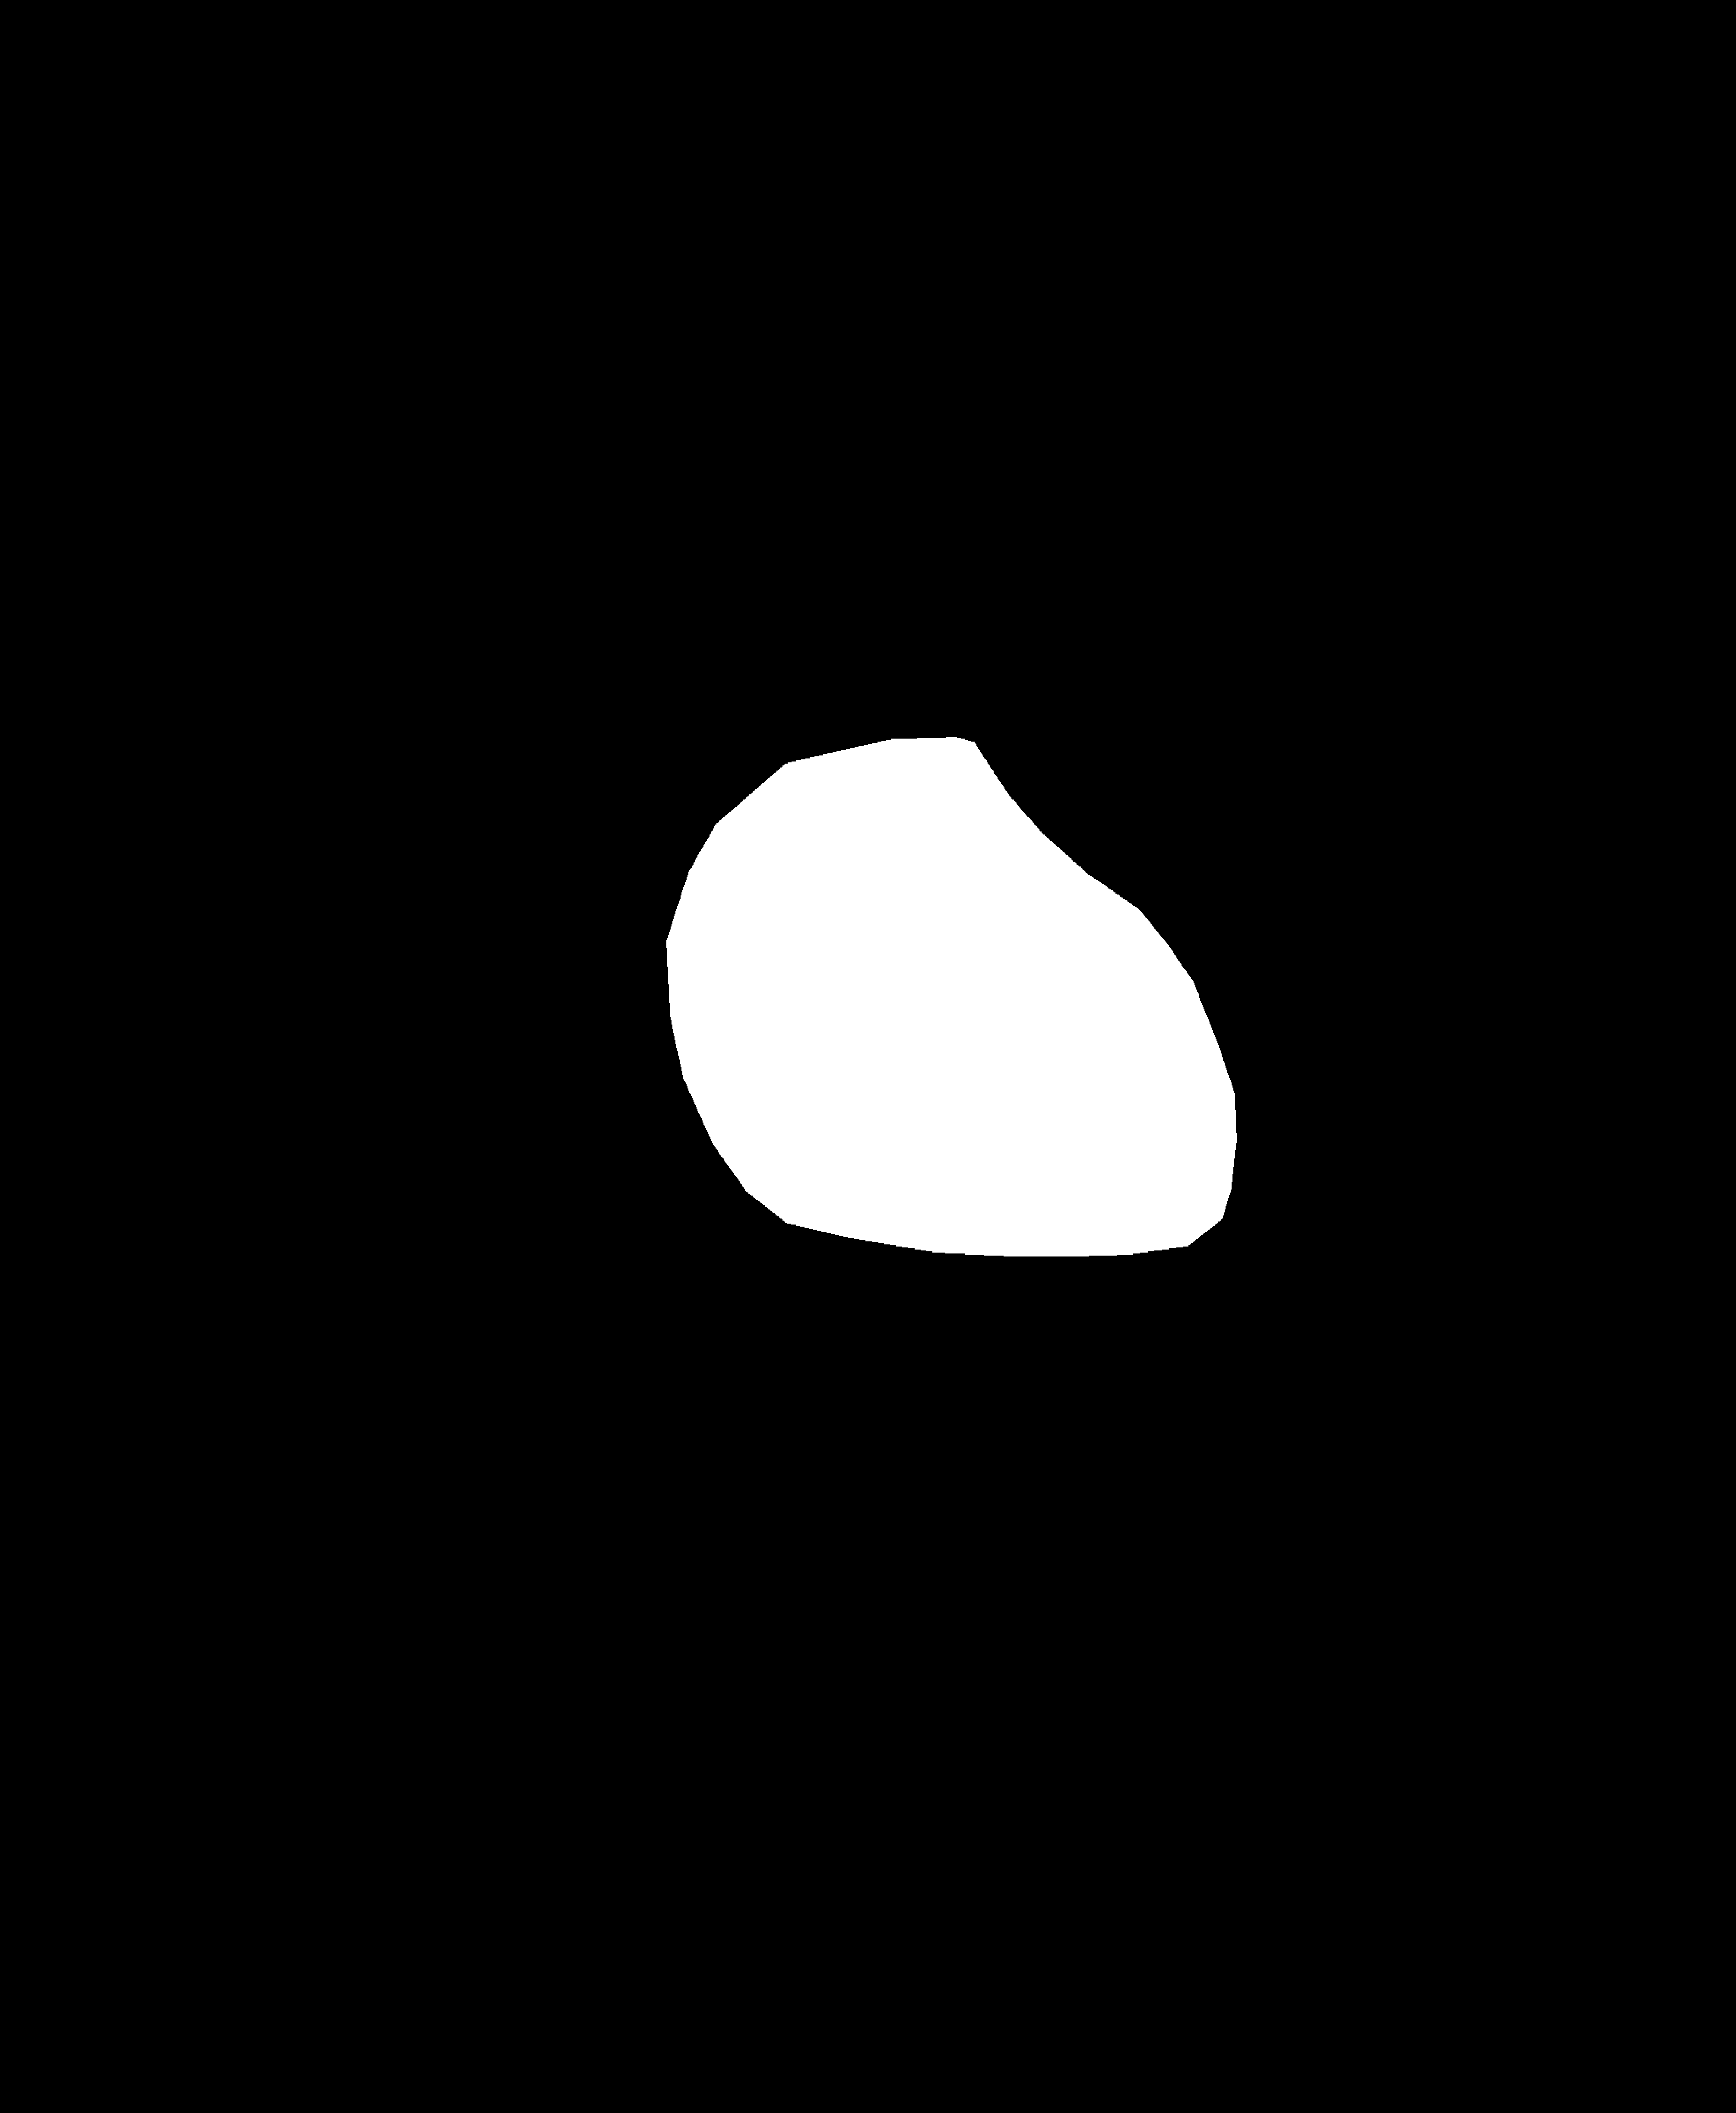heart: (658, 830, 1234, 1311)
left_lung: (198, 228, 795, 1432)
right_lung: (932, 218, 1525, 1444)
